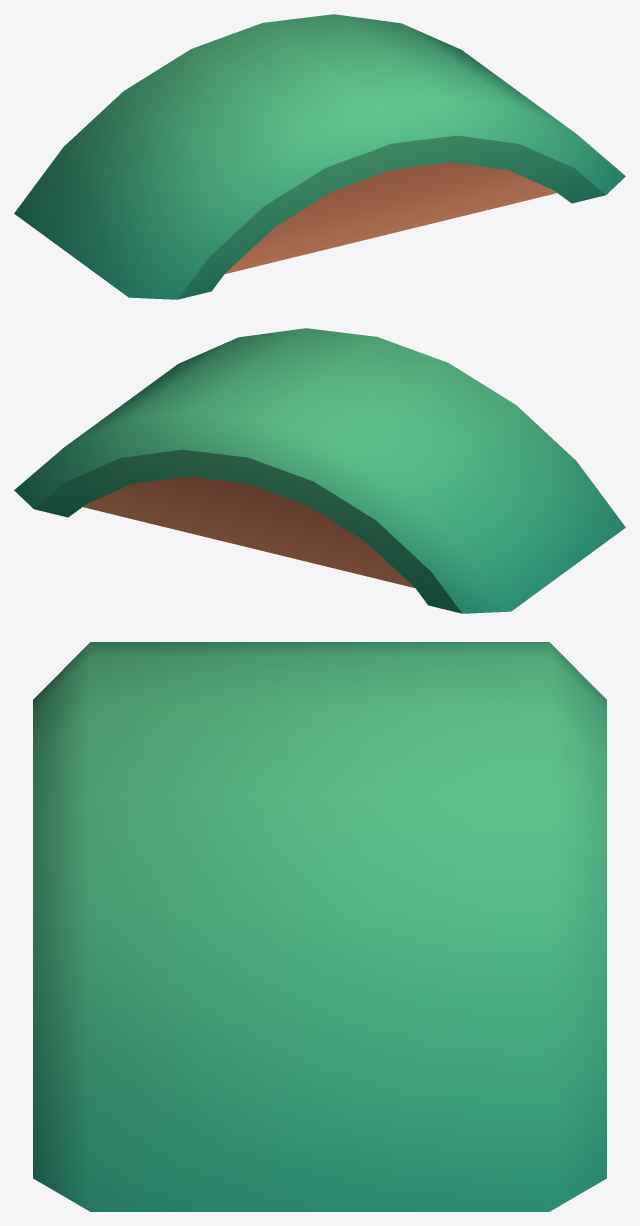
The model's file is block_grass_curve_low.glb.
The picture shows the model from 3 angles, top to bottom: view 1: azimuth 30°, elevation 25°; view 2: azimuth 150°, elevation 25°; view 3: azimuth 270°, elevation 25°; orthographic projection. The views are drawn at different scales.
Parts seen in each view (by area): view 1: block-grass-curve-low; view 2: block-grass-curve-low; view 3: block-grass-curve-low.
Boxes of the visible parts, x1=… form: block-grass-curve-low: x1=14, y1=14, x2=625, y2=299; block-grass-curve-low: x1=14, y1=328, x2=625, y2=613; block-grass-curve-low: x1=33, y1=642, x2=606, y2=1211.
Size of the model in its own units: 2 by 0.5 by 1.
Materials: 1 (1 with a texture image).
